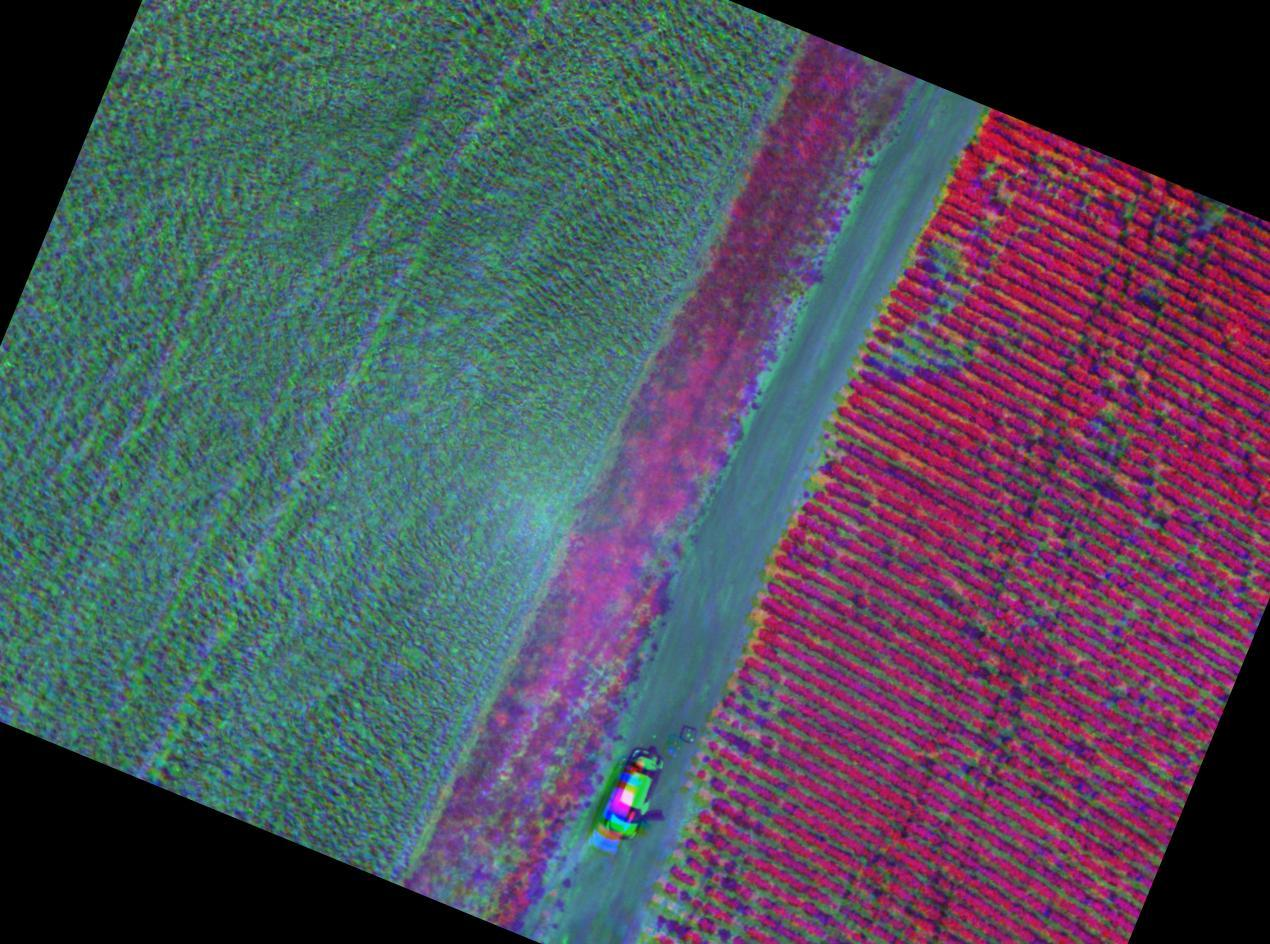dc: (654, 871, 727, 944), (1128, 192, 1235, 239), (812, 885, 880, 944), (931, 235, 979, 302), (885, 322, 967, 360), (690, 777, 735, 836)
